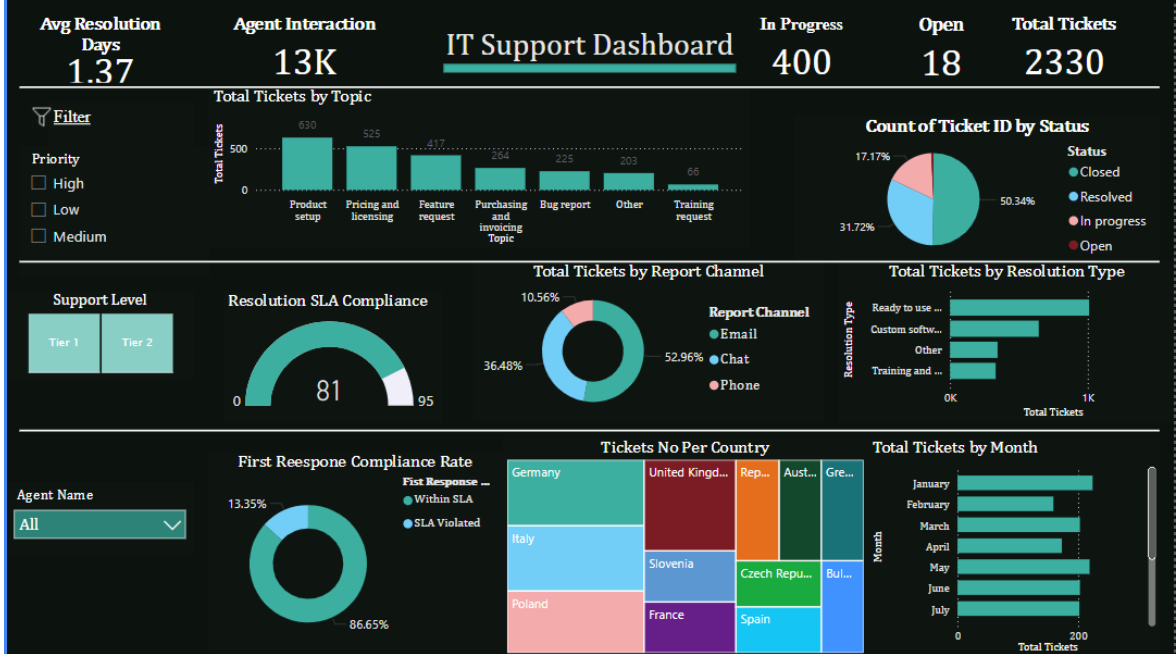

The dashboard page shown, as its layout file describes it:
{"tool":"powerbi","page":{"name":"Page 1","canvas":[1280,720],"ordinal":0},"visuals":[{"type":"slicer","fields":{"Values":["Technical Support Dataset.Agent Name"]},"box":[0,592,208,80],"z":0},{"type":"card","title":"Avg Resolution Days","fields":{"Values":["Avg(Technical Support Dataset.days)"]},"box":[16,16,176,80],"z":1000},{"type":"card","title":"Total Tickets","fields":{"Values":["CountNonNull(Technical Support Dataset.Ticket ID)"]},"box":[1056,16,208,80],"z":2000},{"type":"gauge","fields":{"Y":["Technical Support Dataset.Resolution SLA Compliance"]},"box":[240,320,240,144],"z":3000},{"type":"card","title":"In Progress","fields":{"Values":["Technical Support Dataset.Ticket ID for In progress"]},"box":[784,16,176,80],"z":4000},{"type":"card","title":"Open","fields":{"Values":["Technical Support Dataset.Ticket ID for Open"]},"box":[944,16,160,80],"z":5000},{"type":"slicer","title":"Support Level","fields":{"Values":["Technical Support Dataset.Support Level"]},"box":[0,320,208,96],"z":6000},{"type":"pieChart","fields":{"Category":["Technical Support Dataset.Status"],"Y":["CountNonNull(Technical Support Dataset.Ticket ID)"]},"box":[864,128,400,160],"z":7000},{"type":"donutChart","fields":{"Category":["Technical Support Dataset.Source"],"Y":["CountNonNull(Technical Support Dataset.Ticket ID)"]},"box":[512,288,384,176],"z":8000},{"type":"card","title":"Agent Interaction","fields":{"Values":["Sum(Technical Support Dataset.Agent interactions)"]},"box":[240,16,176,80],"z":9000},{"type":"treemap","title":"Tickets No Per Country","fields":{"Group":["Technical Support Dataset.Country"],"Values":["CountNonNull(Technical Support Dataset.Ticket ID)"]},"box":[544,480,400,240],"z":10000},{"type":"clusteredColumnChart","fields":{"Category":["Technical Support Dataset.Topic"],"Y":["CountNonNull(Technical Support Dataset.Ticket ID)"]},"box":[224,96,592,176],"z":11000},{"type":"clusteredBarChart","fields":{"Category":["Technical Support Dataset.Product group"],"Y":["CountNonNull(Technical Support Dataset.Ticket ID)"]},"box":[912,288,368,176],"z":12000},{"type":"clusteredBarChart","fields":{"Category":["Technical Support Dataset.Created time.Variation.Date Hierarchy.Month"],"Y":["CountNonNull(Technical Support Dataset.Ticket ID)"]},"box":[944,480,320,240],"z":13000},{"type":"donutChart","title":"FCR Compliance Rate","fields":{"Category":["Technical Support Dataset.SLA For first response"],"Y":["CountNonNull(Technical Support Dataset.Ticket ID)"]},"box":[224,496,320,224],"z":14000},{"type":"shape","title":"IT Support Dashboard","box":[480,32,320,48],"z":15000},{"type":"shape","box":[16,64,1248,64],"z":16000},{"type":"shape","box":[16,448,1248,48],"z":17000},{"type":"shape","box":[16,256,1248,64],"z":18000},{"type":"slicer","fields":{"Values":["Technical Support Dataset.Priority"]},"box":[16,160,208,144],"z":19000},{"type":"textbox","box":[48,112,160,48],"z":20000},{"type":"image","box":[16,112,48,32],"z":21000}]}

Visuals, with their boxes in screenshot pixels (x1, y1, x2, y2), scaled from the page's 1280x720 canvas onto the 1176x654 screenshot:
slicer - Technical Support Dataset.Agent Name: 0/538/191/610
"Avg Resolution Days" card: 15/15/176/87
"Total Tickets" card: 970/15/1161/87
gauge - Technical Support Dataset.Resolution SLA Compliance: 220/291/441/421
"In Progress" card: 720/15/882/87
"Open" card: 867/15/1014/87
"Support Level" slicer: 0/291/191/378
pieChart - Technical Support Dataset.Status x CountNonNull(Technical Support Dataset.Ticket ID): 794/116/1161/262
donutChart - Technical Support Dataset.Source x CountNonNull(Technical Support Dataset.Ticket ID): 470/262/823/421
"Agent Interaction" card: 220/15/382/87
"Tickets No Per Country" treemap: 500/436/867/653
clusteredColumnChart - Technical Support Dataset.Topic x CountNonNull(Technical Support Dataset.Ticket ID): 206/87/750/247
clusteredBarChart - Technical Support Dataset.Product group x CountNonNull(Technical Support Dataset.Ticket ID): 838/262/1175/421
clusteredBarChart - Technical Support Dataset.Created time.Variation.Date Hierarchy.Month x CountNonNull(Technical Support Dataset.Ticket ID): 867/436/1161/653
"FCR Compliance Rate" donutChart: 206/451/500/653
"IT Support Dashboard" shape: 441/29/735/73
shape: 15/58/1161/116
shape: 15/407/1161/451
shape: 15/233/1161/291
slicer - Technical Support Dataset.Priority: 15/145/206/276
textbox: 44/102/191/145
image: 15/102/59/131
